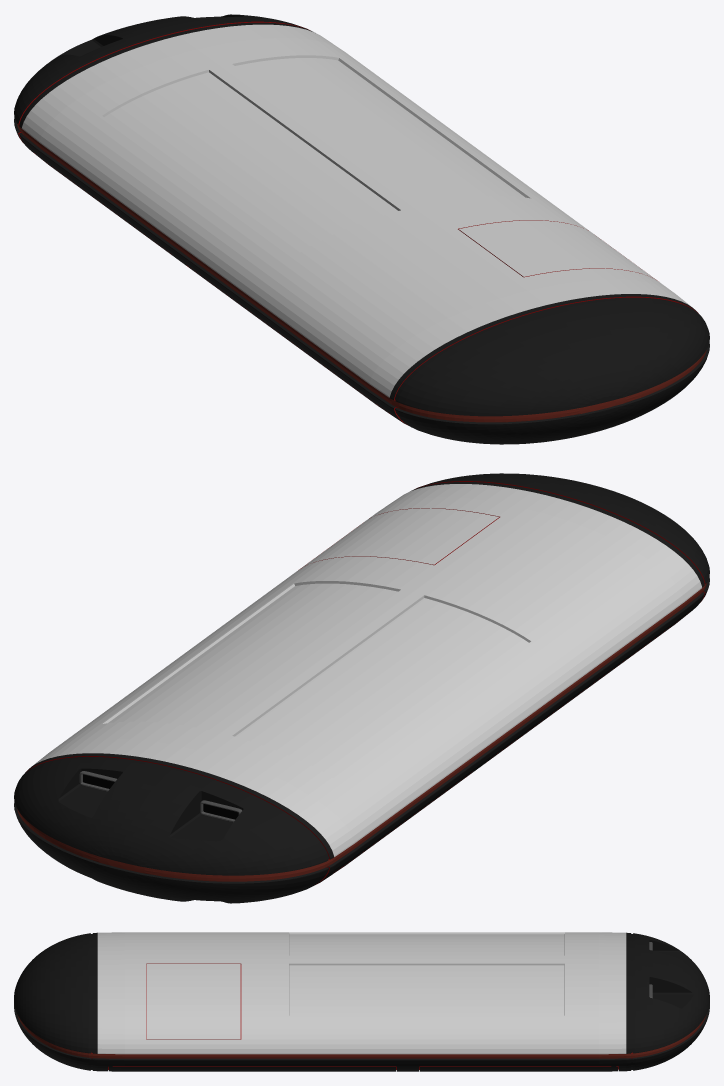
File: torpedo.obj
3 renders of one model, top to bottom at view 1: azimuth 30°, elevation 25°; view 2: azimuth 150°, elevation 25°; view 3: azimuth 270°, elevation 25°, orthographic. The views are drawn at different scales.
Visible parts, largest first — view 1: Photorp_hu, Photorp_h2, Photorp_h1, Photorp_pa; view 2: Photorp_hu, Photorp_h2, Photorp_h1, Photorp_pa; view 3: Photorp_hu, Photorp_h2, Photorp_h1, Photorp_pa.
Boxes of the visible parts, left/top/right/bottom form: Photorp_hu: left=21, top=24, right=692, bottom=397; Photorp_h2: left=14, top=14, right=709, bottom=444; Photorp_h1: left=17, top=124, right=706, bottom=422; Photorp_pa: left=18, top=21, right=698, bottom=424; Photorp_hu: left=33, top=484, right=701, bottom=856; Photorp_h2: left=14, top=473, right=709, bottom=903; Photorp_h1: left=17, top=583, right=706, bottom=881; Photorp_pa: left=26, top=481, right=705, bottom=884; Photorp_hu: left=97, top=932, right=626, bottom=1054; Photorp_h2: left=14, top=932, right=709, bottom=1071; Photorp_h1: left=17, top=1014, right=706, bottom=1058; Photorp_pa: left=91, top=963, right=632, bottom=1069.
Bounding box in the file's own units: 0.8229 × 0.2958 × 2.19.
